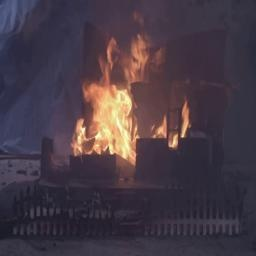fire: (63, 34, 188, 163)
